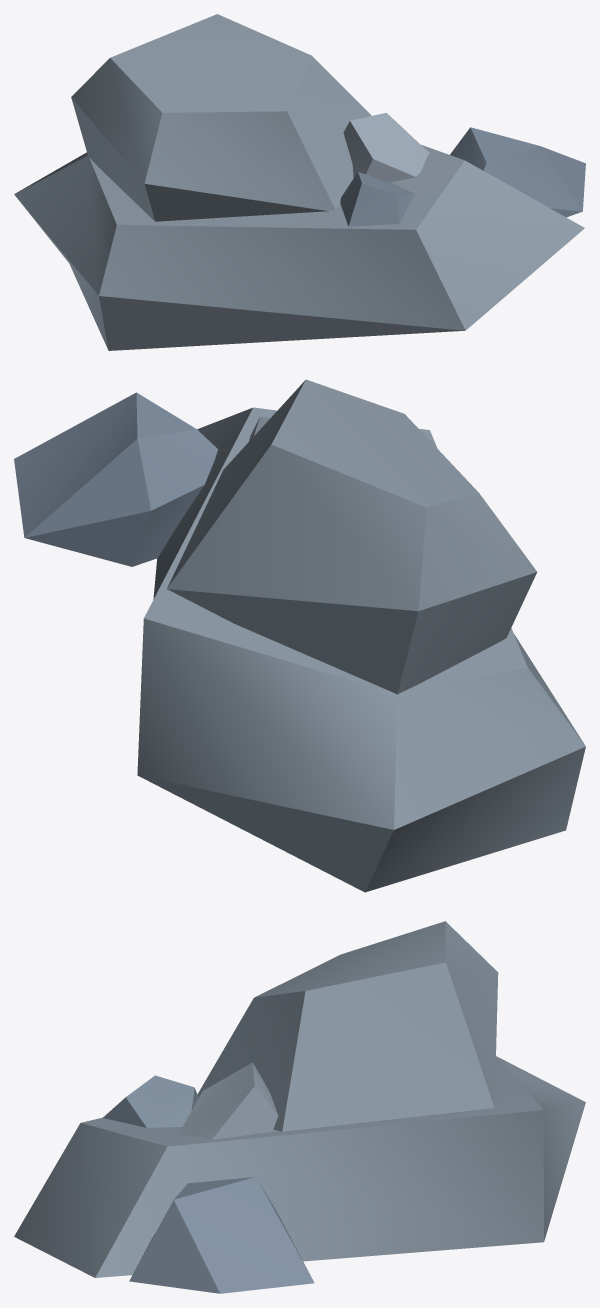
File: Stone_6.fbx
3 renders of one model, top to bottom at view 1: azimuth 30°, elevation 25°; view 2: azimuth 150°, elevation 25°; view 3: azimuth 270°, elevation 25°, orthographic. The views are drawn at different scales.
Visible parts, largest first — view 1: Stone11; view 2: Stone11; view 3: Stone11.
Boxes of the visible parts, bbox=[...] form: Stone11: bbox=[14, 14, 585, 350]; Stone11: bbox=[14, 379, 585, 892]; Stone11: bbox=[14, 921, 585, 1293].
Size of the model in its own units: 276 by 157 by 261.
